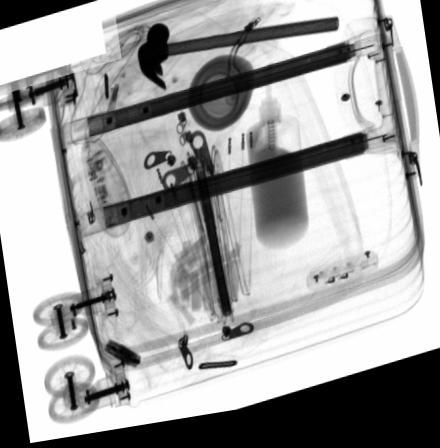Hammer: (136, 27, 338, 96)
